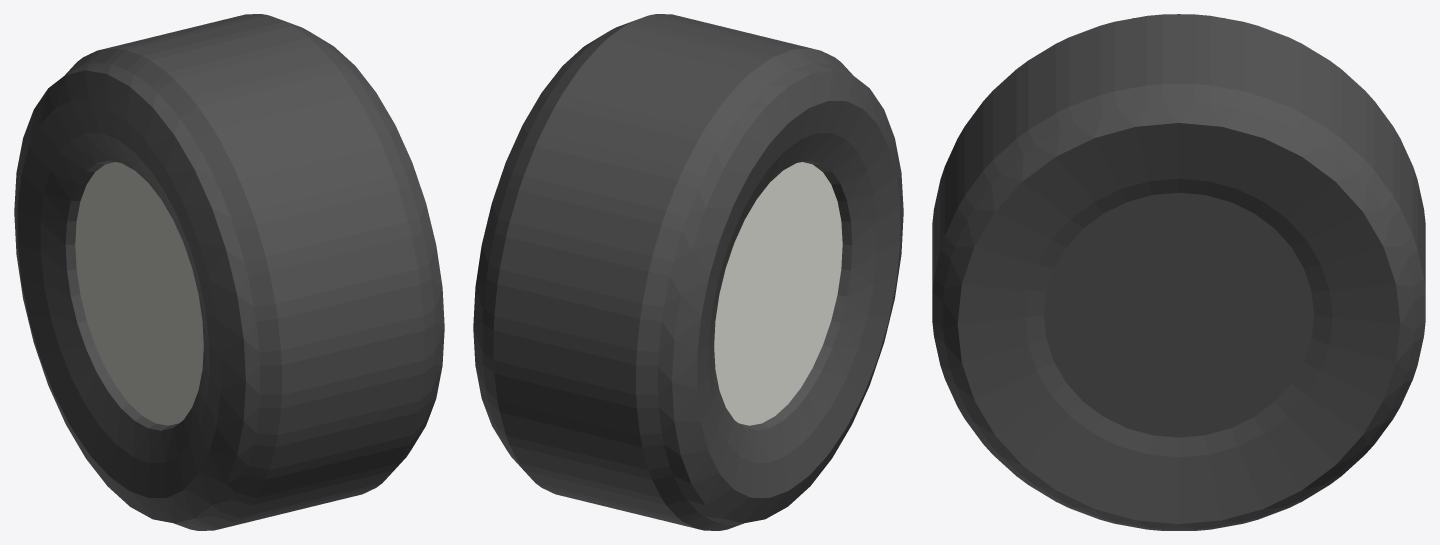
The model's file is RuedaTI.obj.
3 views of the same model, side by side, from view 1: azimuth 30°, elevation 25°; view 2: azimuth 150°, elevation 25°; view 3: azimuth 270°, elevation 25° (orthographic).
Parts seen in each view (by area): view 1: Roda.003_Plastico_Preto, Roda.003_Material.006; view 2: Roda.003_Plastico_Preto, Roda.003_Material.006; view 3: Roda.003_Plastico_Preto.
Part boxes in pixels (box(x1,y1,x2,y2)): Roda.003_Plastico_Preto: box(14, 14, 444, 530); Roda.003_Material.006: box(75, 162, 203, 425); Roda.003_Plastico_Preto: box(473, 14, 903, 530); Roda.003_Material.006: box(714, 162, 842, 425); Roda.003_Plastico_Preto: box(932, 14, 1425, 530).
Size of the model in its own units: 0.0523 by 0.1039 by 0.1039.
